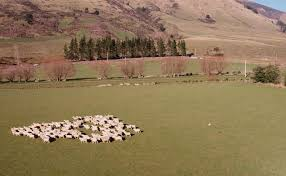sheep: (110, 133, 123, 144), (132, 126, 142, 135), (63, 132, 73, 141), (77, 136, 88, 144), (82, 123, 90, 132), (27, 133, 35, 140)
